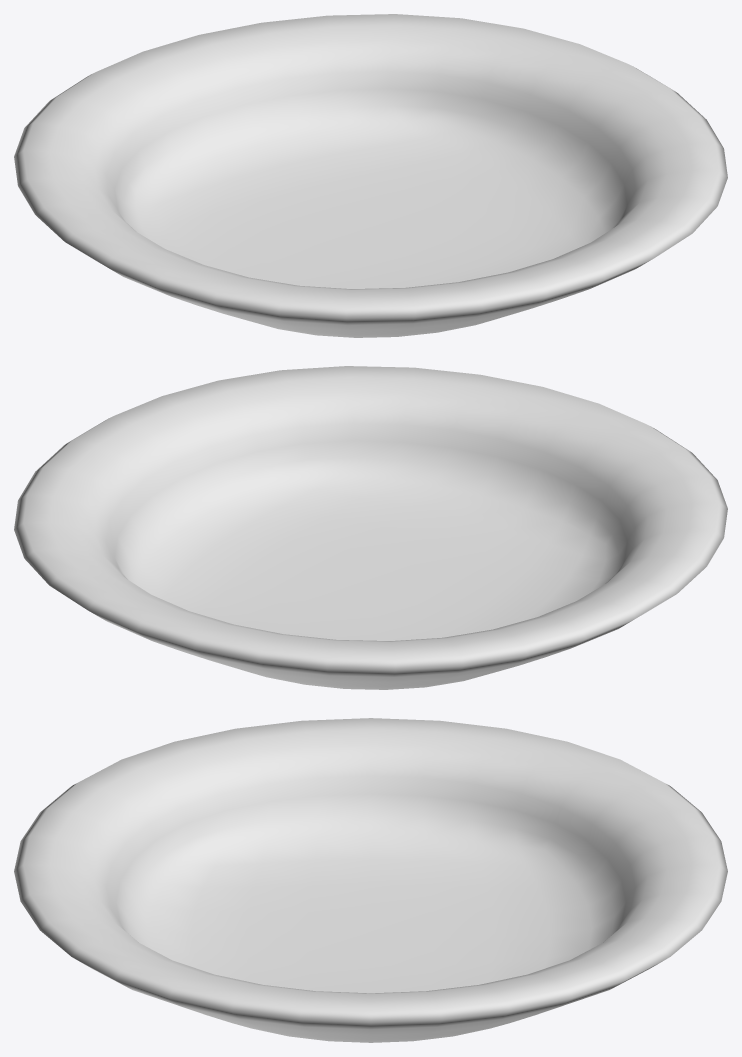
File: plate.fbx
The picture shows the model from 3 angles, top to bottom: view 1: azimuth 30°, elevation 25°; view 2: azimuth 150°, elevation 25°; view 3: azimuth 270°, elevation 25°; orthographic projection.
Visible parts, largest first — view 1: Plate; view 2: Plate; view 3: Plate.
Boxes of the visible parts, x1,y1,x2,y2 form: Plate: (14, 14, 727, 337); Plate: (14, 366, 727, 689); Plate: (14, 718, 727, 1042).
Size of the model in its own units: 1001 by 149 by 1001.
Materials: 1 (1 with a texture image).
